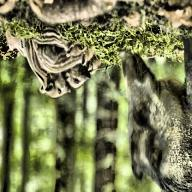boar: (124, 43, 192, 190), (26, 52, 79, 110), (54, 50, 102, 92)
